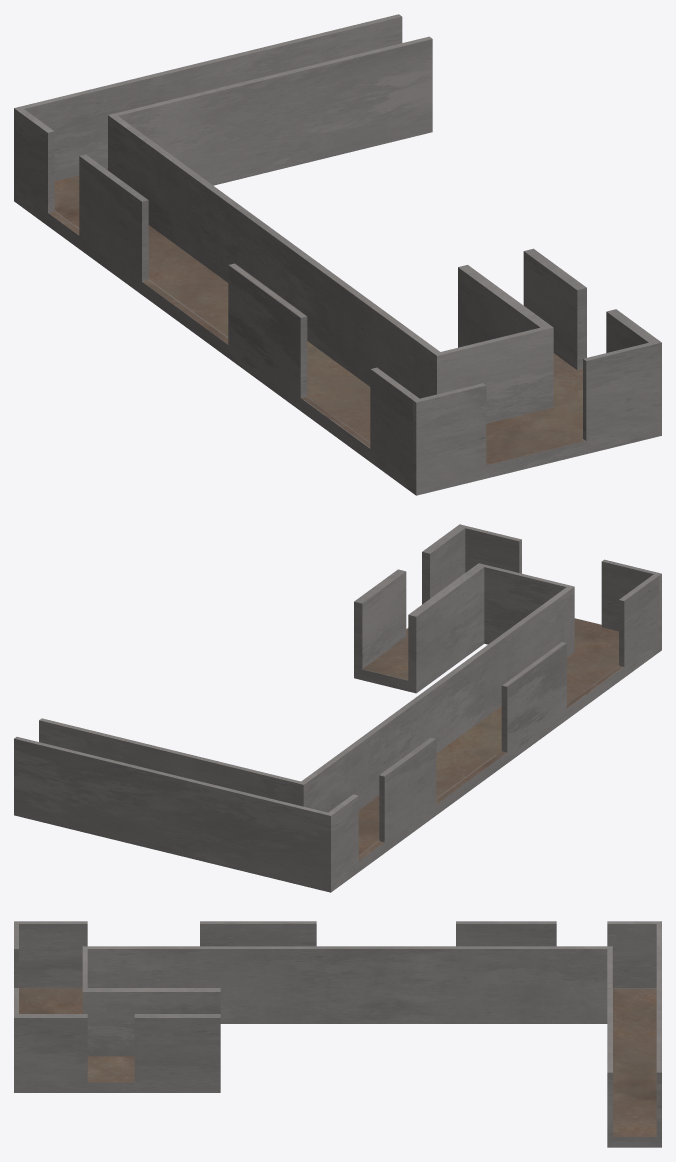
The model's file is Rue.fbx.
3 renders of one model, top to bottom at view 1: azimuth 30°, elevation 25°; view 2: azimuth 150°, elevation 25°; view 3: azimuth 270°, elevation 25°, orthographic. The views are drawn at different scales.
Visible parts, largest first — view 1: Rue; view 2: Rue; view 3: Rue.
Part boxes in pixels (left/top/right/bottom): Rue: left=14, top=14, right=661, bottom=495; Rue: left=14, top=524, right=661, bottom=892; Rue: left=14, top=921, right=661, bottom=1147.
Size of the model in its own units: 2119 by 490 by 3836.
